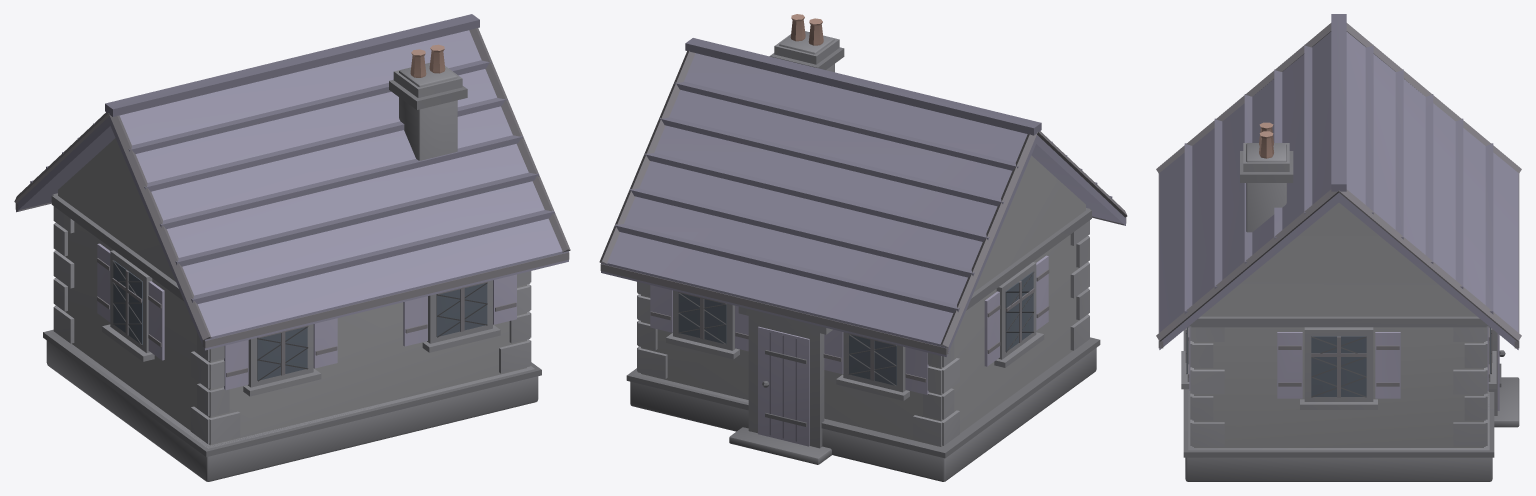
File: cottage_storm.gltf
3 renders of one model, left to right at view 1: azimuth 30°, elevation 25°; view 2: azimuth 150°, elevation 25°; view 3: azimuth 270°, elevation 25°, orthographic. The views are drawn at different scales.
Visible parts, largest first — view 1: Body; view 2: Body; view 3: Body.
Part boxes in pixels (x1,y1,x2,y2): Body: (14,14,570,481); Body: (599,14,1127,481); Body: (1156,14,1521,481).
Size of the model in its own units: 6.97 by 6.12 by 6.32.
